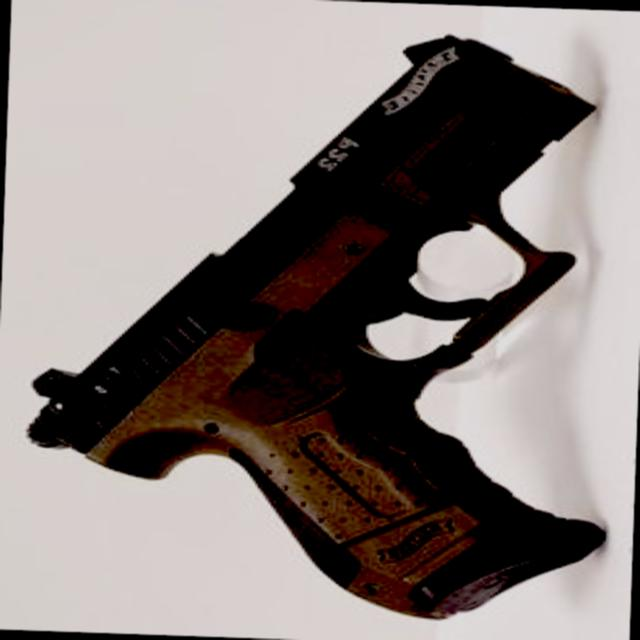semi automatic: (19, 12, 632, 628)
